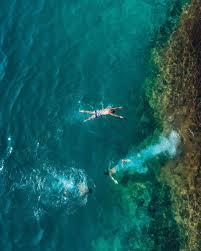Person: (104, 155, 137, 187), (72, 107, 127, 122), (62, 179, 93, 201)
